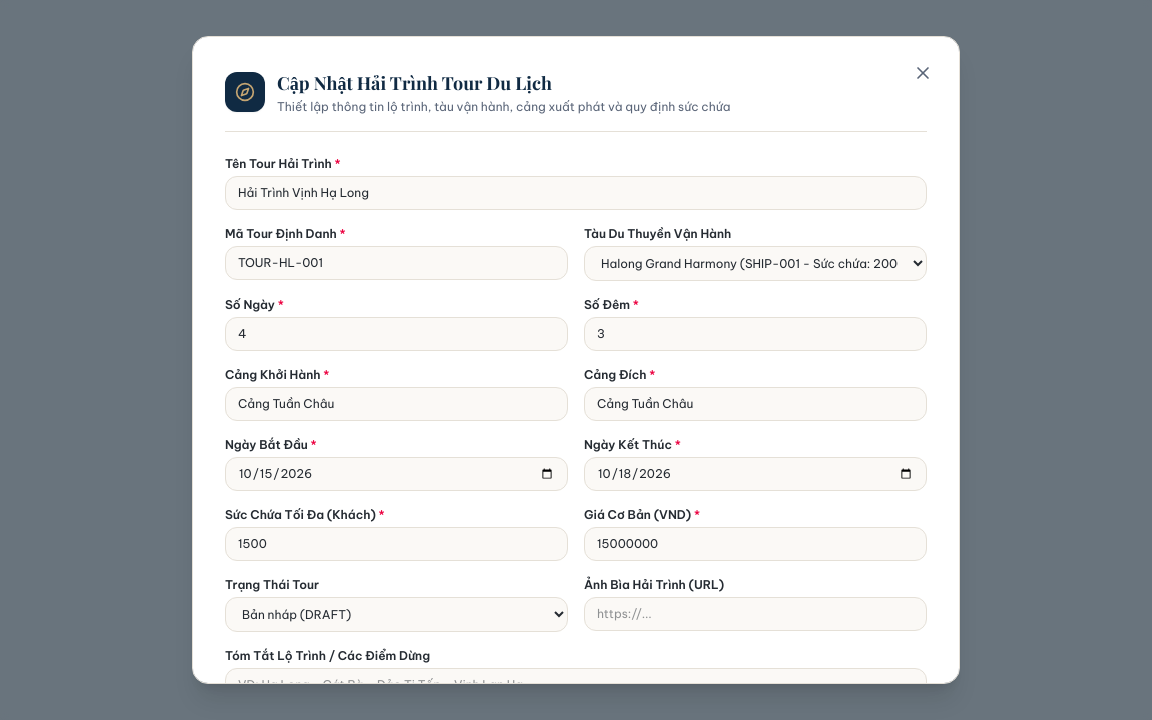
Scenario: TourFormModal Component (KAN-101) › validates maxCapacity against selected ship capacity
Replace the text in the number field labelled "Sức Chứa Tối Đa (Khách) *" with "2500" at coordinates (396, 544), box [225,527,568,561]
(page scrolled)
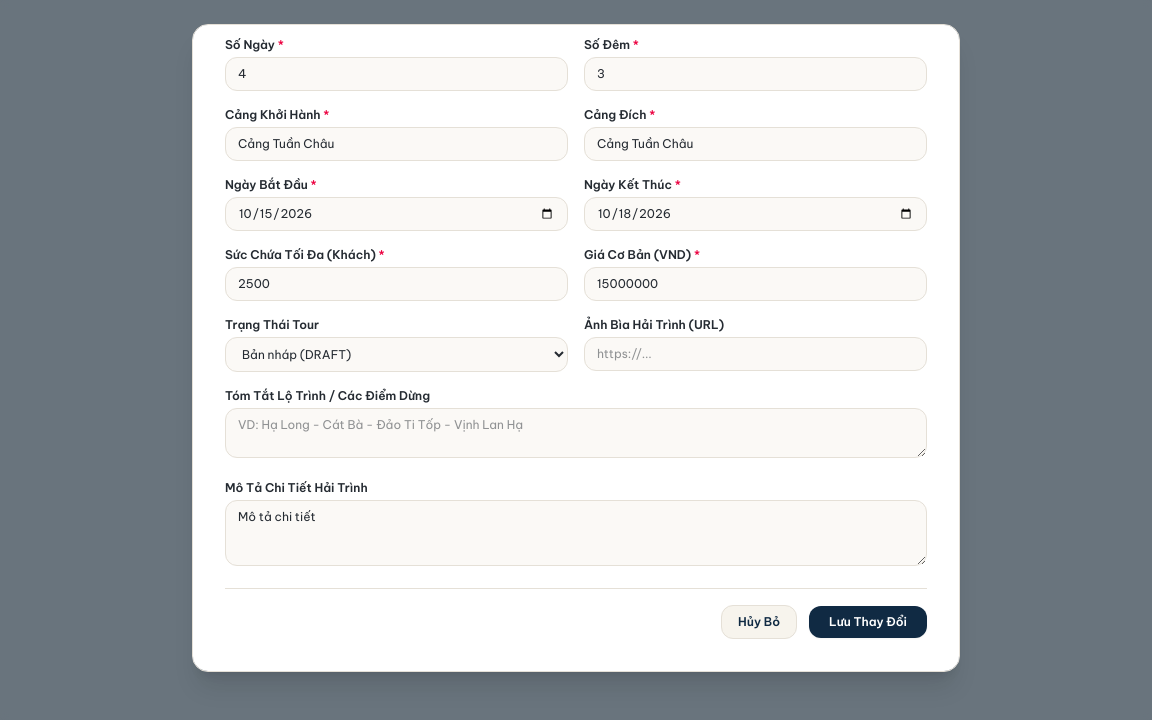
Click the button "Lưu Thay Đổi" at coordinates (868, 622), box [809,606,927,638]
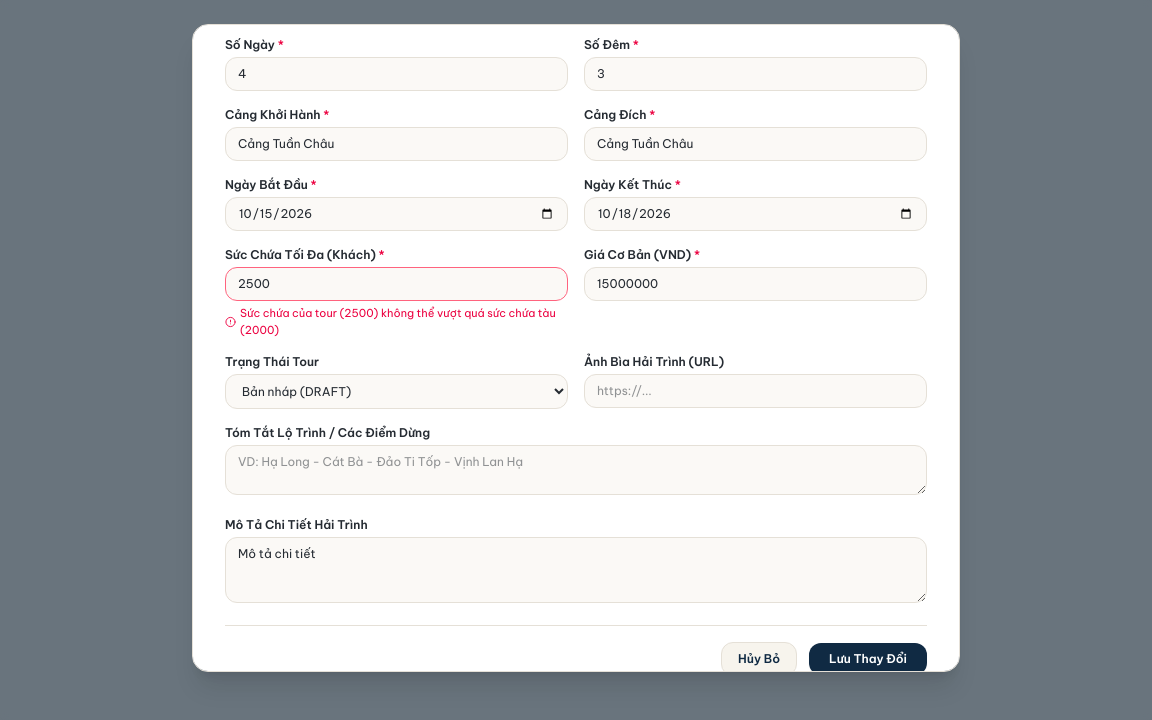
Now the text "không thể vượt quá sức chứa tàu (2000)" is shown, box [240,306,556,336]
